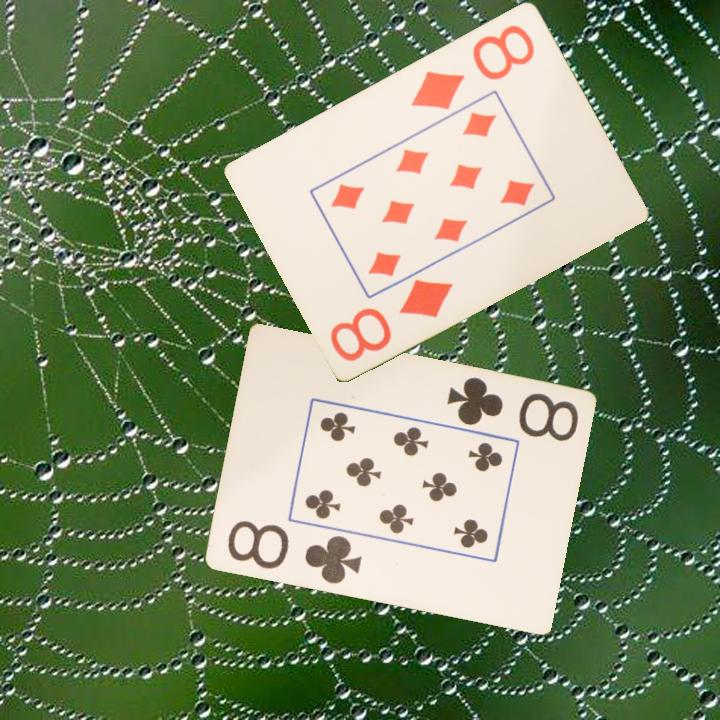8c: (223, 517, 364, 588), (443, 374, 581, 445)
8d: (407, 20, 538, 112), (326, 274, 457, 364)
